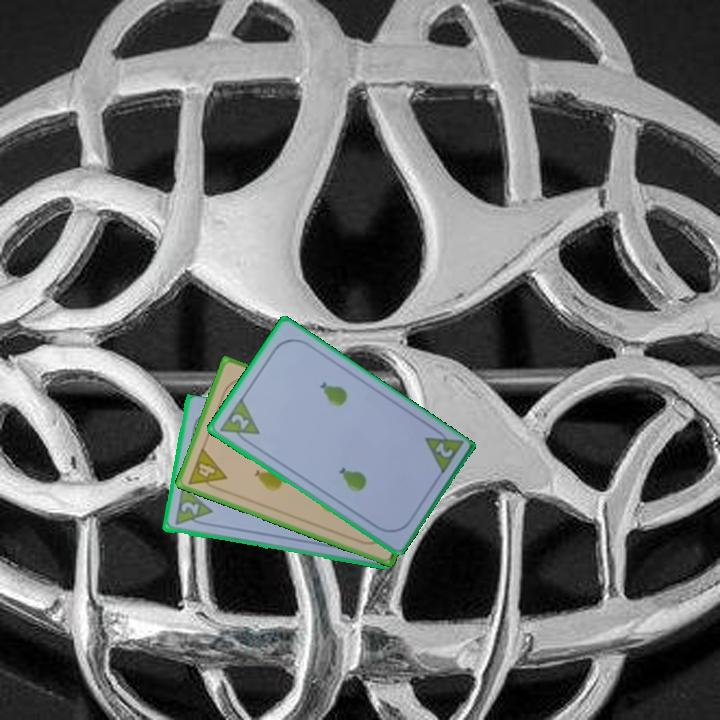2p: (215, 395, 262, 448), (171, 485, 214, 529), (431, 438, 456, 461)
4p: (184, 444, 229, 495)
